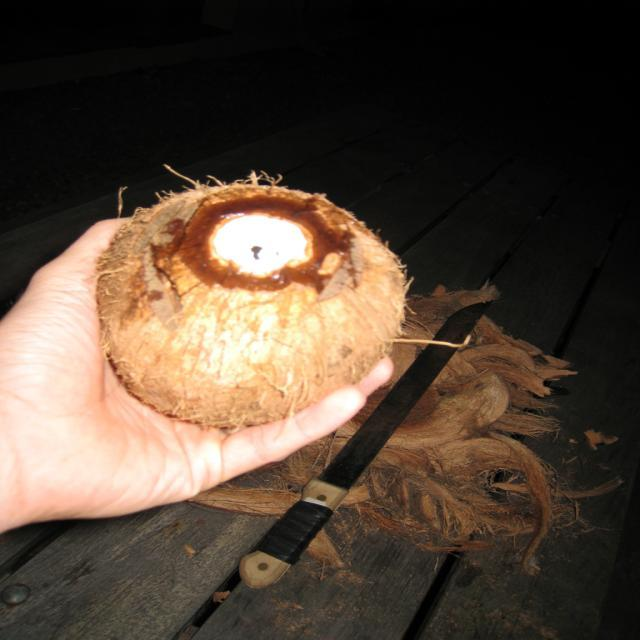Knife: (239, 302, 488, 588)
